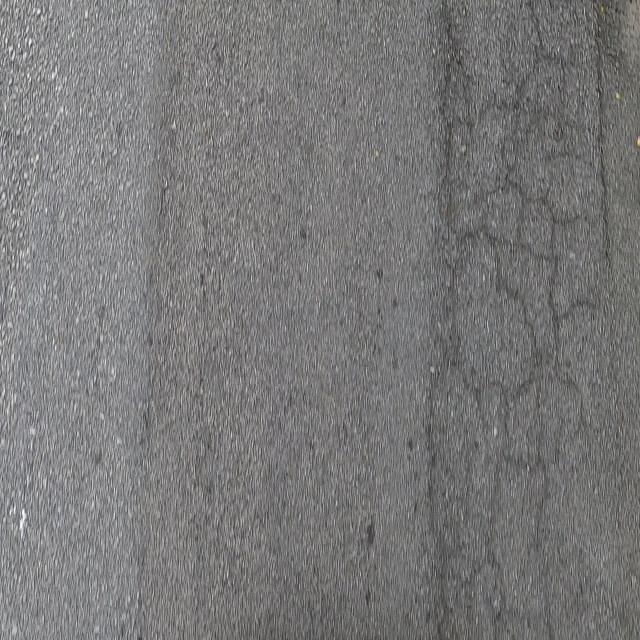Retak-Buaya: (440, 0, 612, 640)
